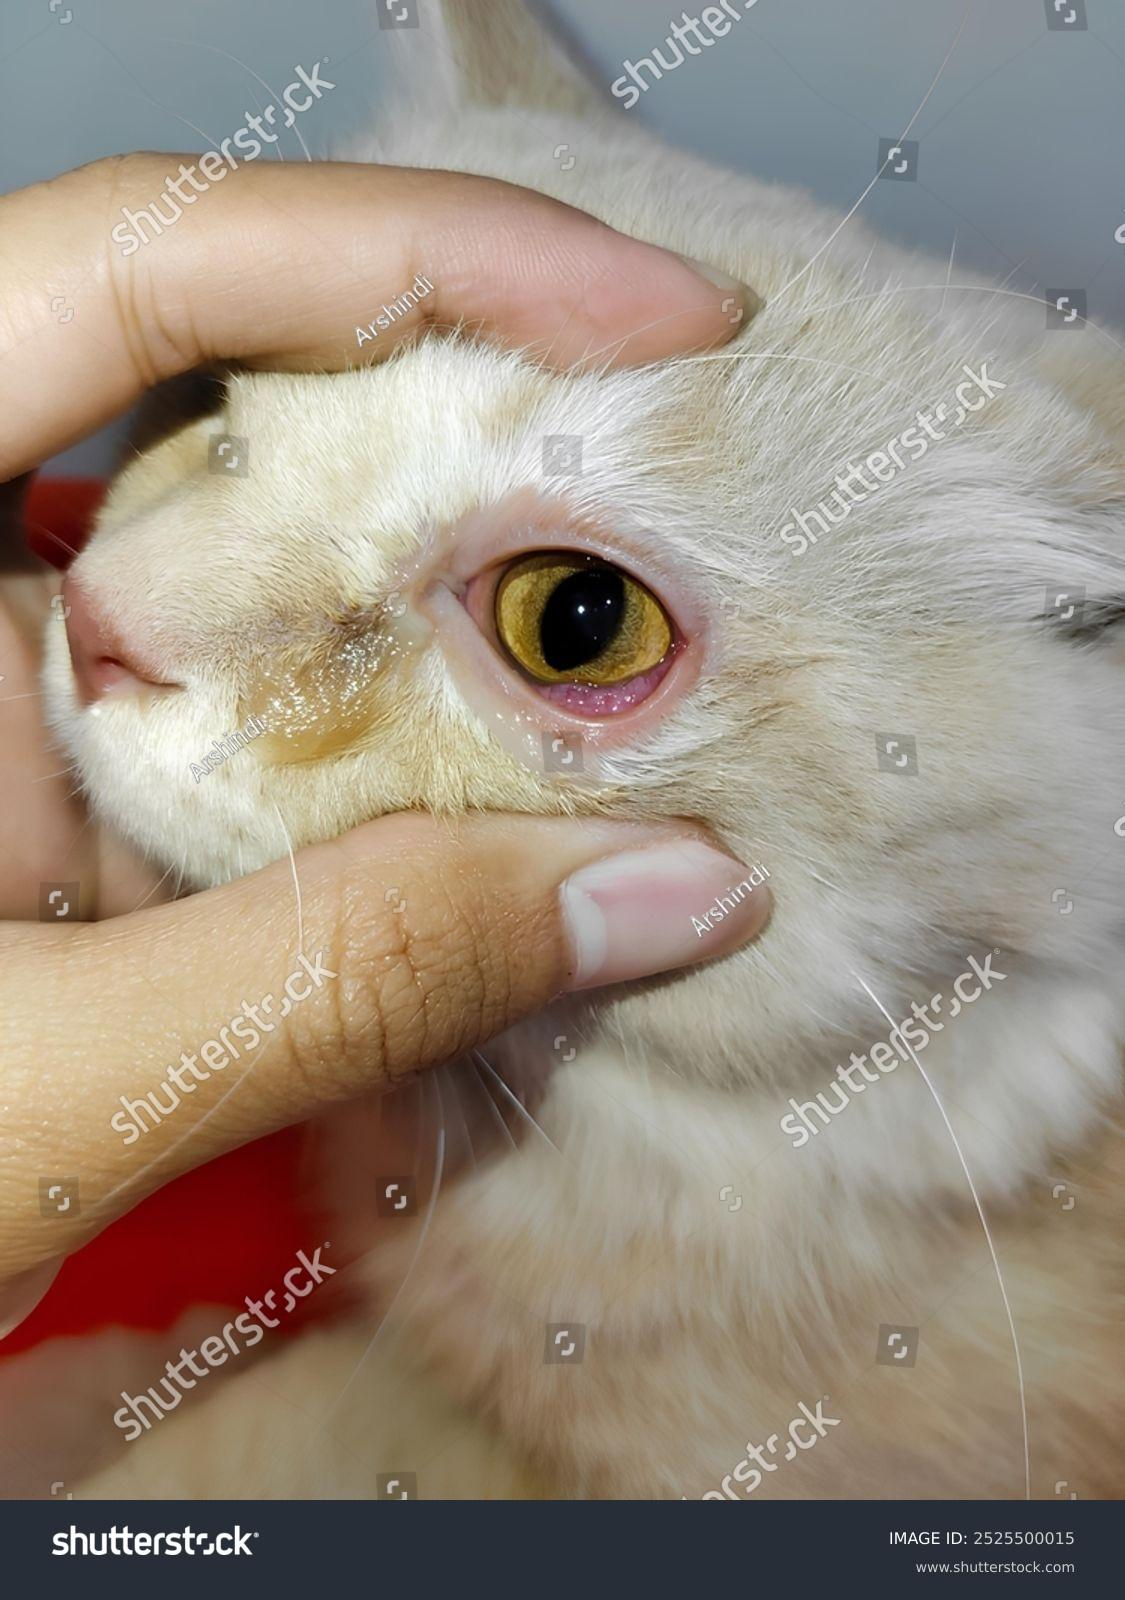eye_infection: (444, 526, 690, 728)
